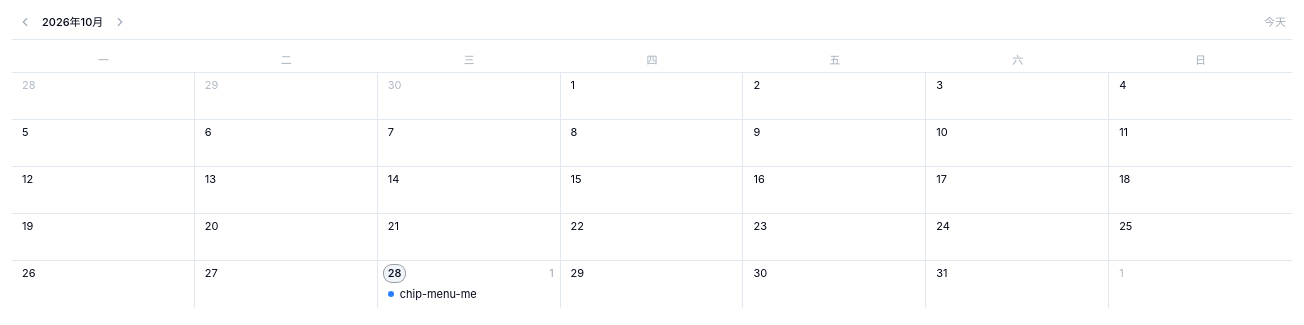
Test: TaskCalendar 空白格右键创建任务 › 右键任务 chip 仍打开快捷菜单，不出现「添加任务」
The width and height of the screenshot is (1304, 325).
Right-click the button "chip-menu-me" at (432, 294), box [388,286,477,300]
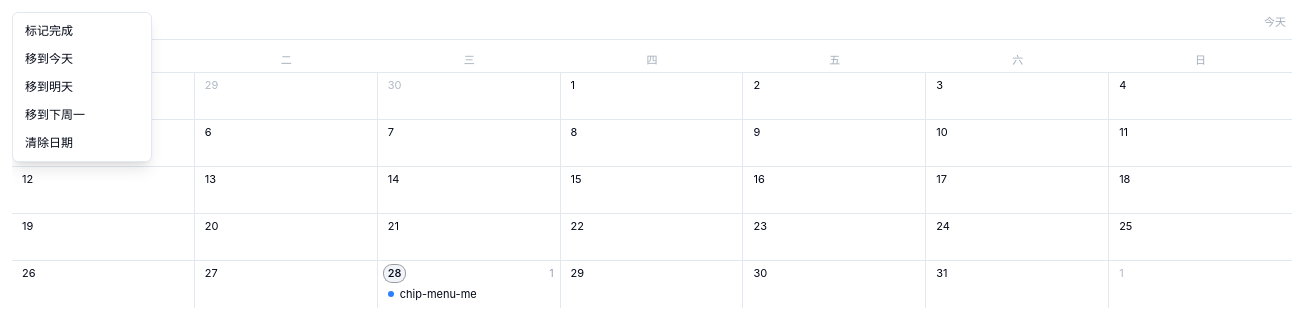
Now the button "标记完成" is shown, box [17,17,147,45]
